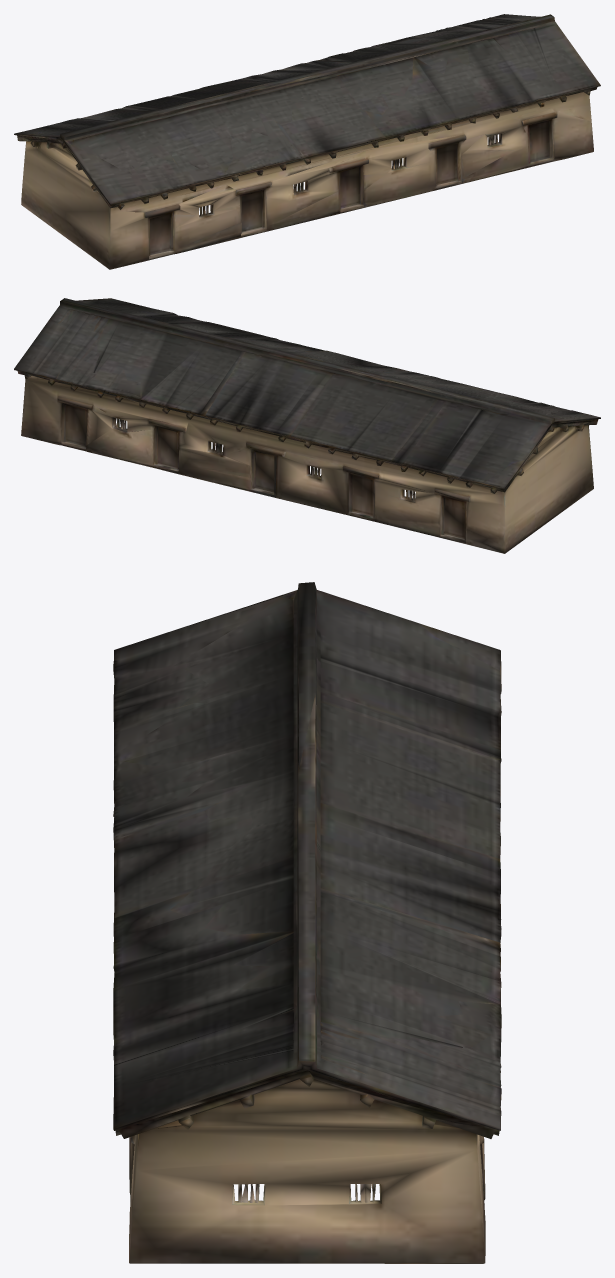
File: barrack_lod1.glb
The picture shows the model from 3 angles, top to bottom: view 1: azimuth 30°, elevation 25°; view 2: azimuth 150°, elevation 25°; view 3: azimuth 270°, elevation 25°; orthographic projection. The views are drawn at different scales.
Visible parts, largest first — view 1: node_0; view 2: node_0; view 3: node_0.
Part boxes in pixels (left/top/right/bottom): node_0: left=14, top=14, right=600, bottom=269; node_0: left=14, top=298, right=600, bottom=553; node_0: left=113, top=582, right=501, bottom=1263.
Size of the model in its own units: 1.13 by 0.2282 by 0.3888.
Materials: 1 (1 with a texture image).
